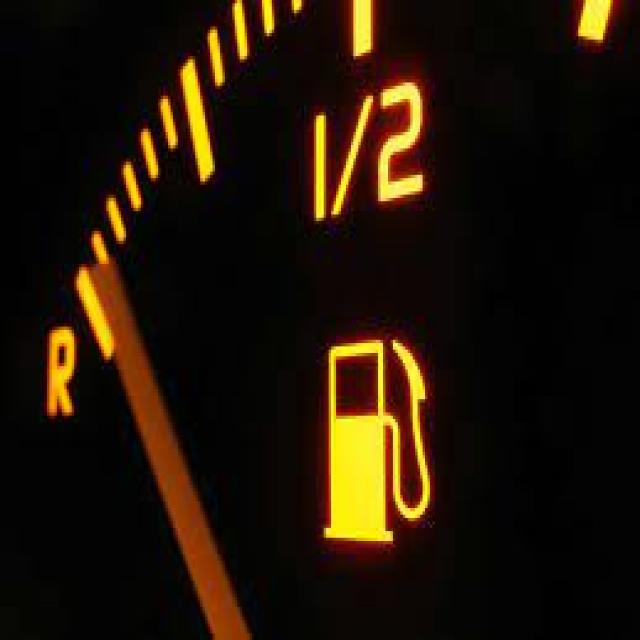kontrolka: (292, 307, 450, 574)
